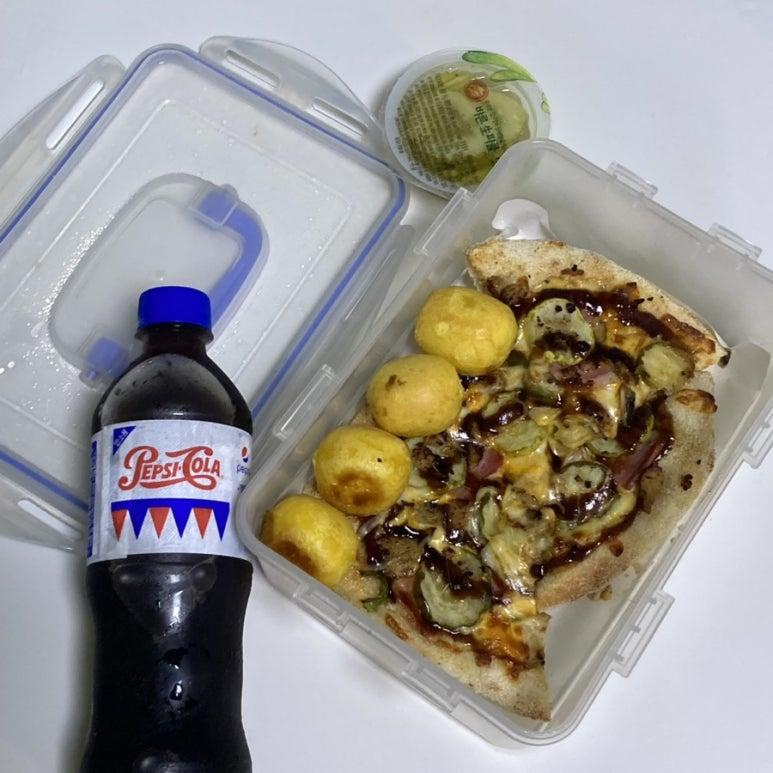Bottle: (81, 285, 251, 772)
Lunch Box: (0, 38, 772, 746)
cup: (383, 49, 549, 197)
